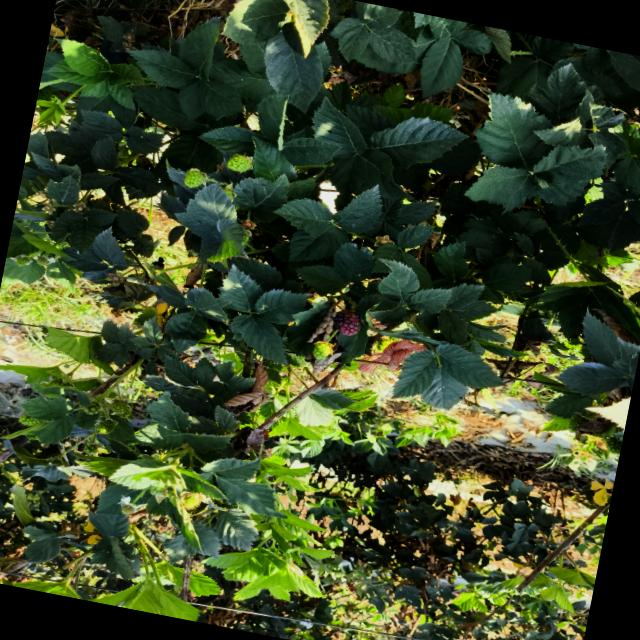marron: (333, 310, 360, 336)
verde: (227, 155, 252, 172), (184, 169, 206, 188), (313, 342, 332, 360)
